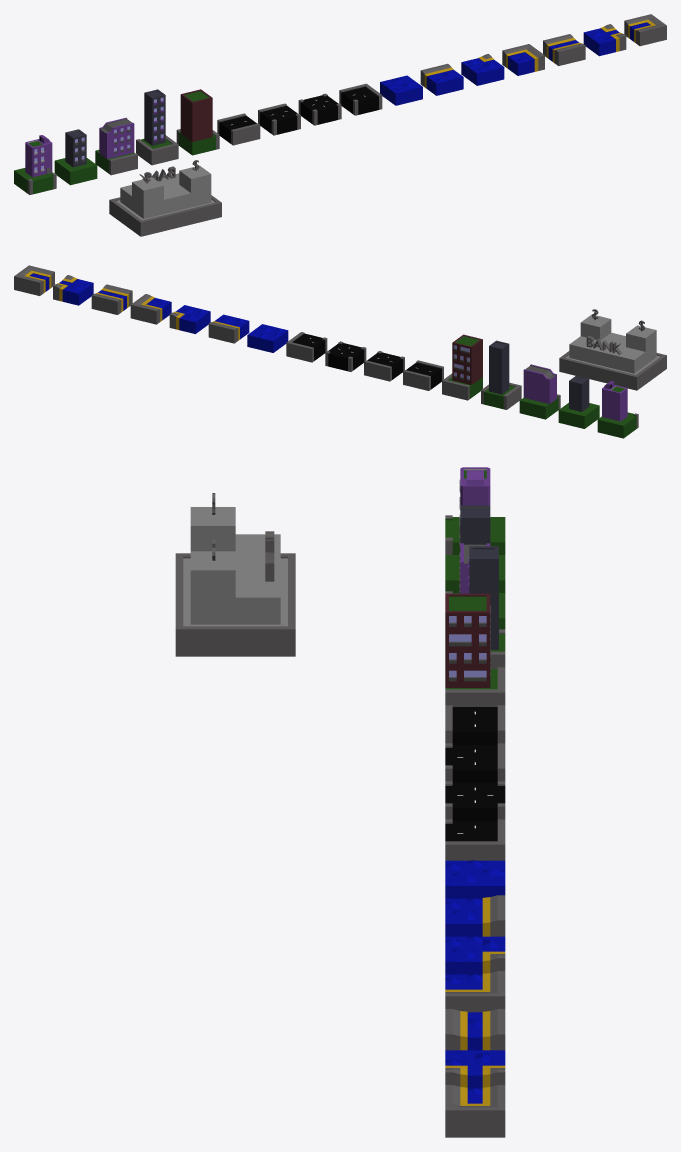
Rendered from City_Tiles 1.fbx.
3 renders of one model, top to bottom at view 1: azimuth 30°, elevation 25°; view 2: azimuth 150°, elevation 25°; view 3: azimuth 270°, elevation 25°, orthographic. The views are drawn at different scales.
Parts seen in each view (by area): view 1: Text.001, Build_1.095, Build_1.012, Build_1.094, Build_1.005, Bank, road_corner_1, road_straight_1, water_corner.2, water_end.1, water_straight.1, road_3crossroad_1 (+13 smaller); view 2: Build_1.015, Build_1.095, Text.001, Build_1.094, Build_1.005, Build_1.010, Build_1.011, water_river.1, water_end.1, road_corner_1, road_straight_1, road_4crossroad_1 (+14 smaller); view 3: Build_1.012, Build_1.011, Build_1.095, water_end.1, Text.001, water_river.1, road_corner_1, water_straight.1, road_straight_1, road_3crossroad_1, road_4crossroad_1, water_fill.1 (+10 smaller).
Part boxes in pixels (left/top/right/bottom): Text.001: left=125, top=172, right=167, bottom=236; Build_1.095: left=180, top=89, right=212, bottom=141; Build_1.012: left=179, top=160, right=221, bottom=223; Build_1.094: left=99, top=117, right=134, bottom=158; Build_1.005: left=144, top=89, right=165, bottom=145; Bank: left=164, top=184, right=194, bottom=229; road_corner_1: left=339, top=83, right=382, bottom=115; road_straight_1: left=217, top=113, right=260, bottom=145; water_corner.2: left=502, top=44, right=544, bottom=75; water_end.1: left=624, top=14, right=666, bottom=46; water_straight.1: left=420, top=63, right=463, bottom=95; road_3crossroad_1: left=258, top=103, right=300, bottom=135; Build_1.015: left=611, top=342, right=651, bottom=390; Build_1.095: left=452, top=334, right=482, bottom=384; Text.001: left=626, top=320, right=666, bottom=379; Build_1.094: left=523, top=364, right=556, bottom=403; Build_1.005: left=489, top=340, right=509, bottom=394; Build_1.010: left=585, top=338, right=625, bottom=383; Build_1.011: left=559, top=336, right=596, bottom=377; water_river.1: left=91, top=284, right=132, bottom=314; water_end.1: left=14, top=265, right=54, bottom=295; road_corner_1: left=286, top=332, right=327, bottom=362; road_straight_1: left=403, top=360, right=443, bottom=390; road_4crossroad_1: left=325, top=341, right=366, bottom=371; Build_1.012: left=175, top=538, right=235, bottom=656; Build_1.011: left=235, top=559, right=295, bottom=656; Build_1.095: left=445, top=593, right=490, bottom=687; water_end.1: left=445, top=1085, right=505, bottom=1137; Text.001: left=175, top=493, right=235, bottom=580; water_river.1: left=445, top=1009, right=505, bottom=1050; road_corner_1: left=445, top=819, right=505, bottom=860; water_straight.1: left=445, top=895, right=505, bottom=936; road_straight_1: left=445, top=705, right=505, bottom=744; road_3crossroad_1: left=445, top=743, right=505, bottom=782; road_4crossroad_1: left=445, top=781, right=505, bottom=820; water_fill.1: left=445, top=860, right=505, bottom=898.
Size of the model in its own units: 4700 by 429 by 1100.
